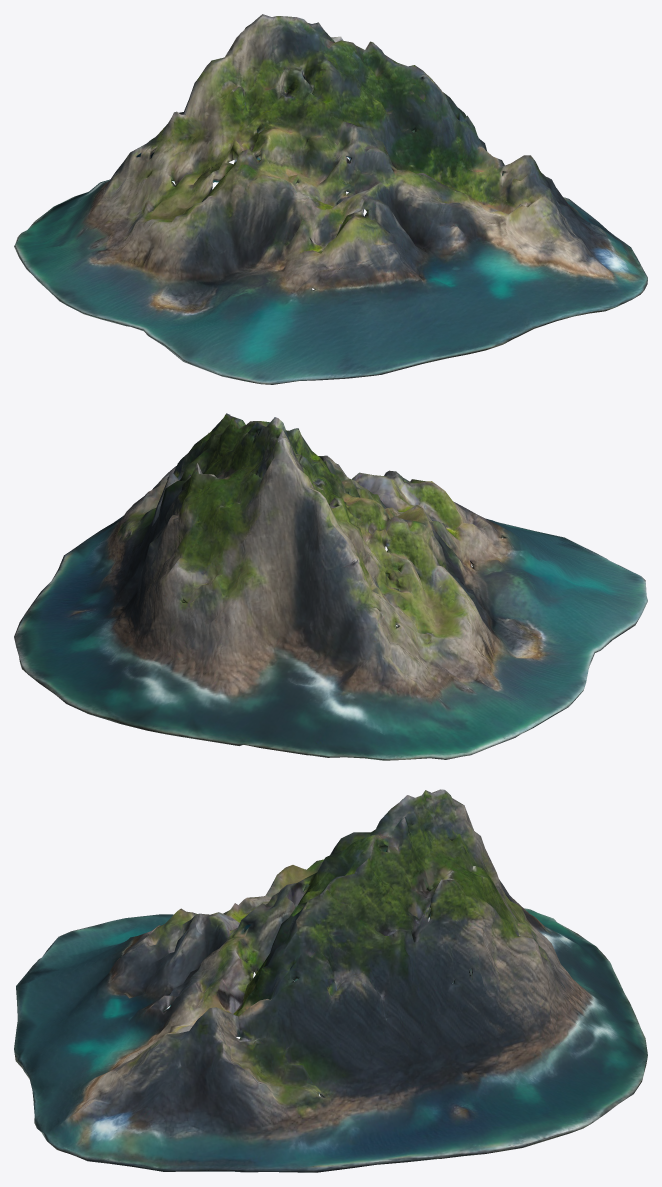
Rendered from rocky_island_1.fbx.
3 views of the same model, one above another, from view 1: azimuth 30°, elevation 25°; view 2: azimuth 150°, elevation 25°; view 3: azimuth 270°, elevation 25° (orthographic). The views are drawn at different scales.
Parts seen in each view (by area): view 1: Mesh_0; view 2: Mesh_0; view 3: Mesh_0.
Boxes of the visible parts, left/top/right/bottom form: Mesh_0: left=14, top=14, right=647, bottom=384; Mesh_0: left=14, top=413, right=647, bottom=760; Mesh_0: left=14, top=789, right=647, bottom=1172.
Bounding box in the file's own units: 200 × 84.43 × 196.
Materials: 1 (1 with a texture image).
